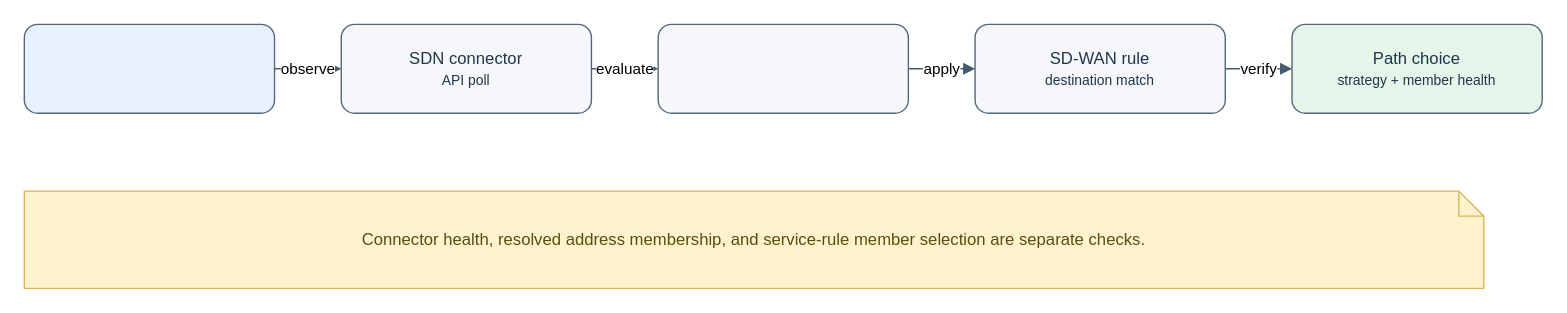
The diagram is 1567 pixels wide and 313 high, and some of its shapes have lost their labels. Each missing label, with the centre of its shape:
Cloud inventory tags / resource IDs: [149,68]
Dynamic address filter + IP set: [782,68]
